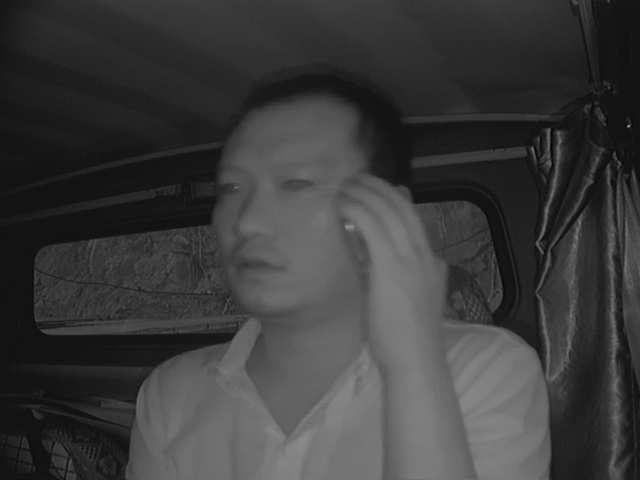hand: (335, 170, 456, 357)
